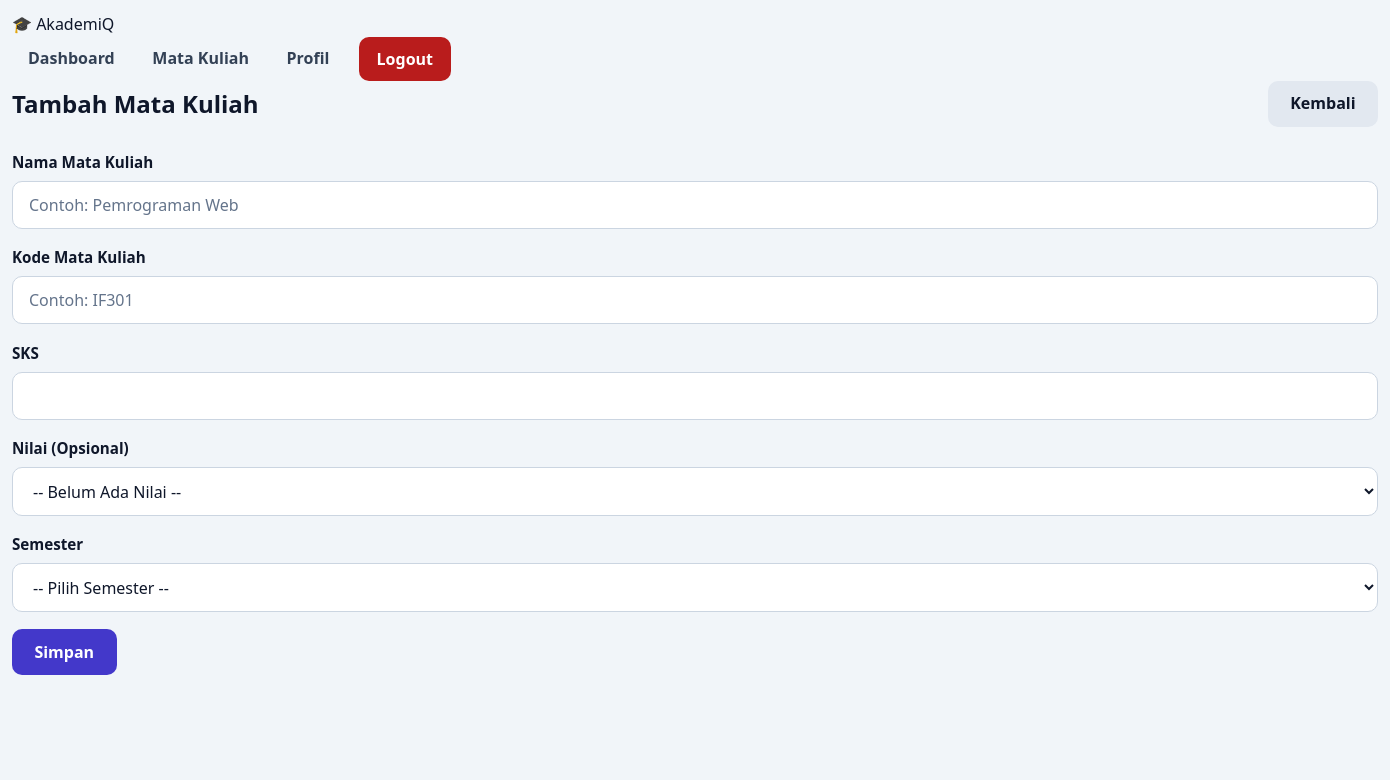
TambahMatakuliah › menampilkan pesan default jika server tidak merespons
The width and height of the screenshot is (1390, 780).
Step 1. Type "Pemrograman Web" into the field labelled "Nama Mata Kuliah" → (695, 205), box [12,181,1378,229]
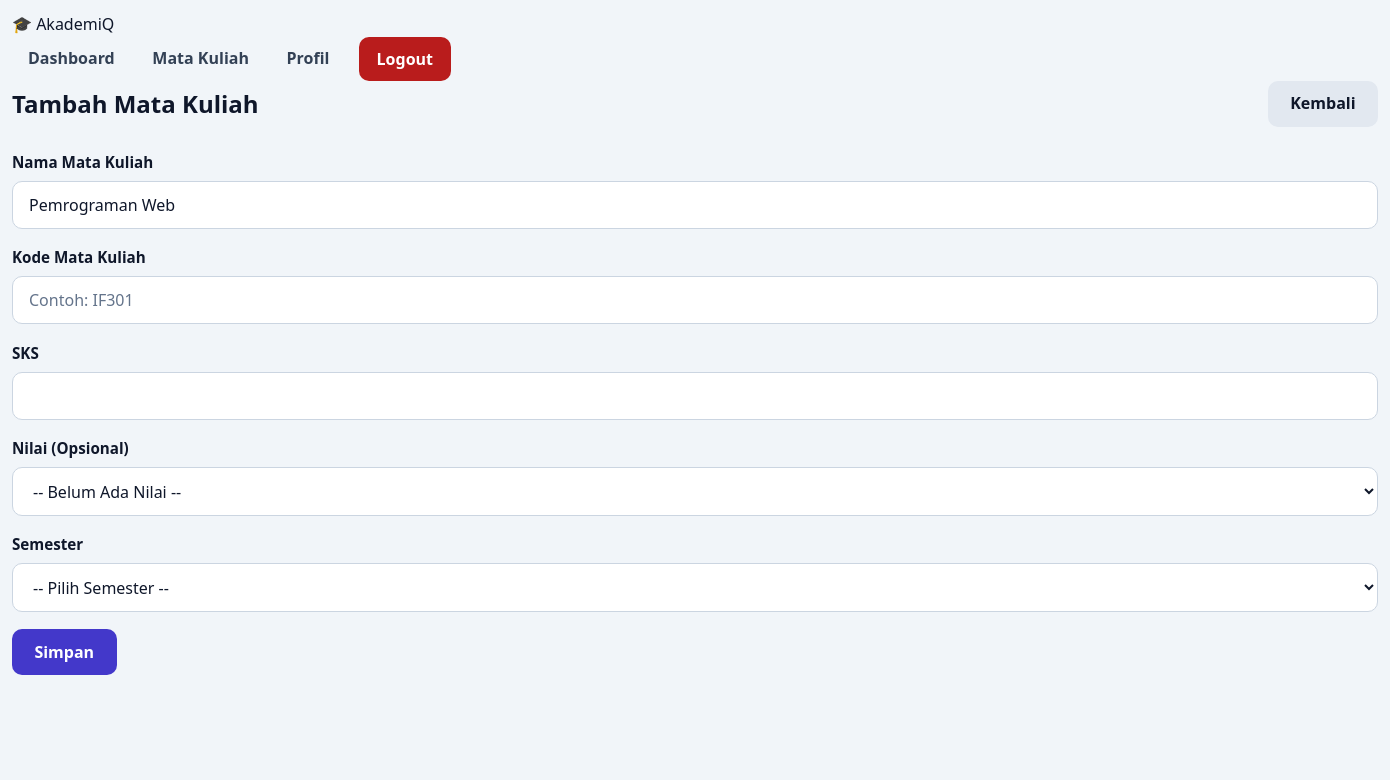
Step 2. Type "IF301" into the field labelled "Kode Mata Kuliah" → (695, 300), box [12,276,1378,324]
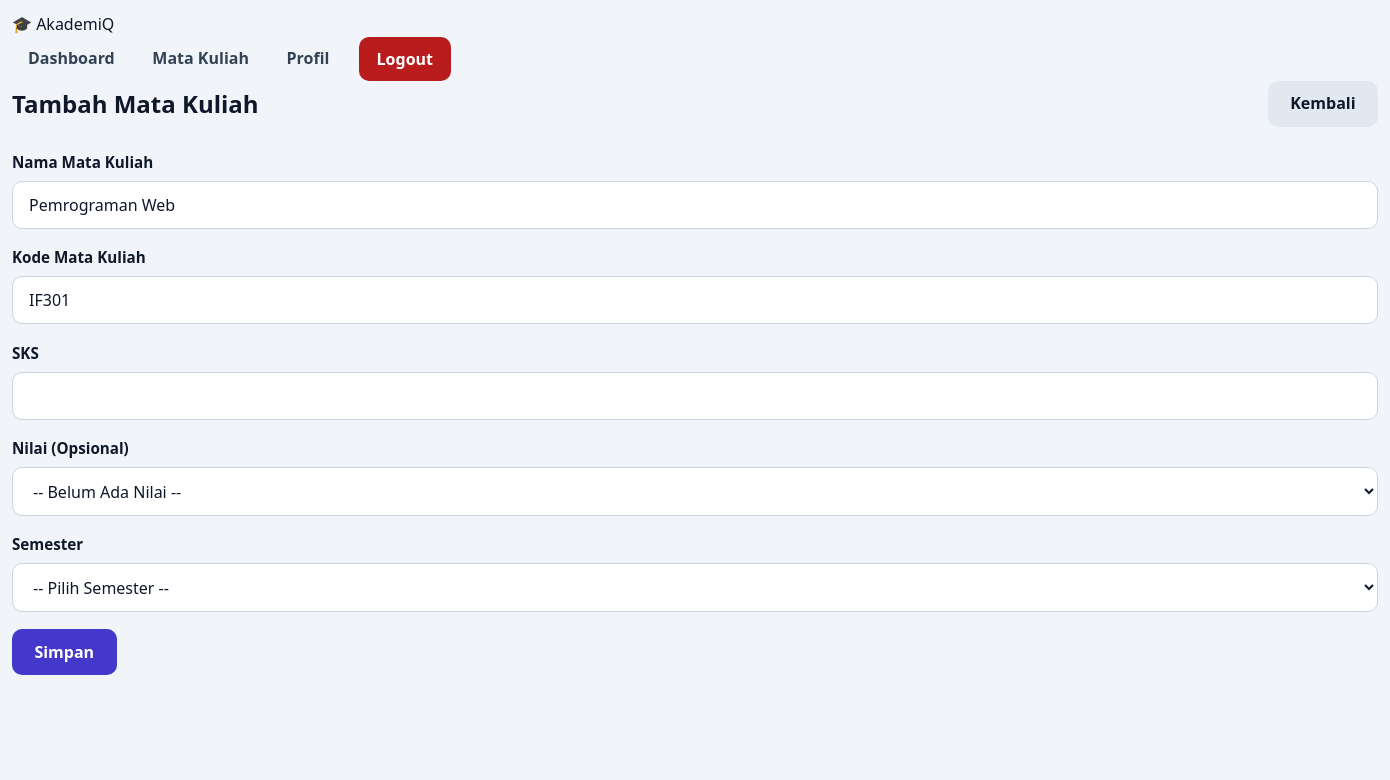
Step 3. Type "3" into the number field labelled "SKS" → (695, 396), box [12,372,1378,420]
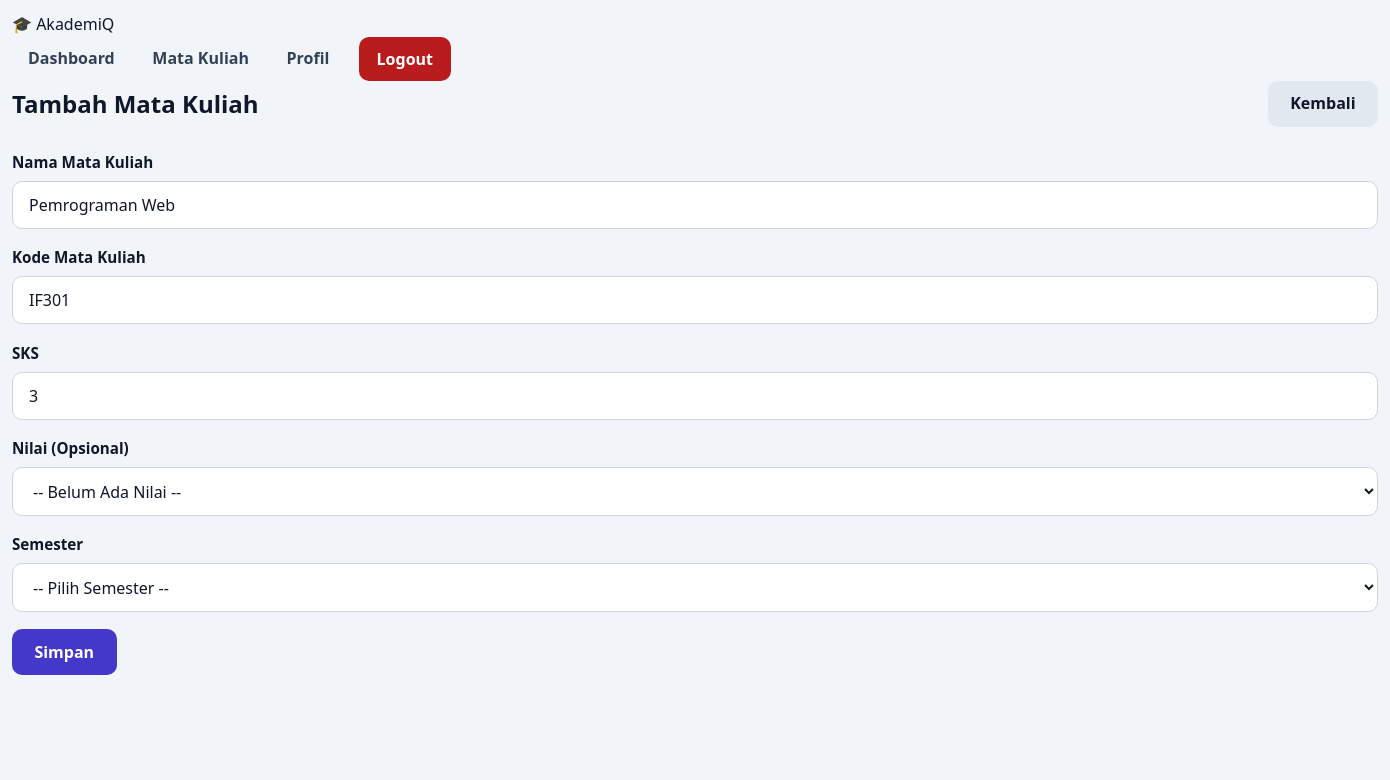
Step 4. Select "A" in the dropdown labelled "Nilai (Opsional)" → (695, 492), box [12,467,1378,516]
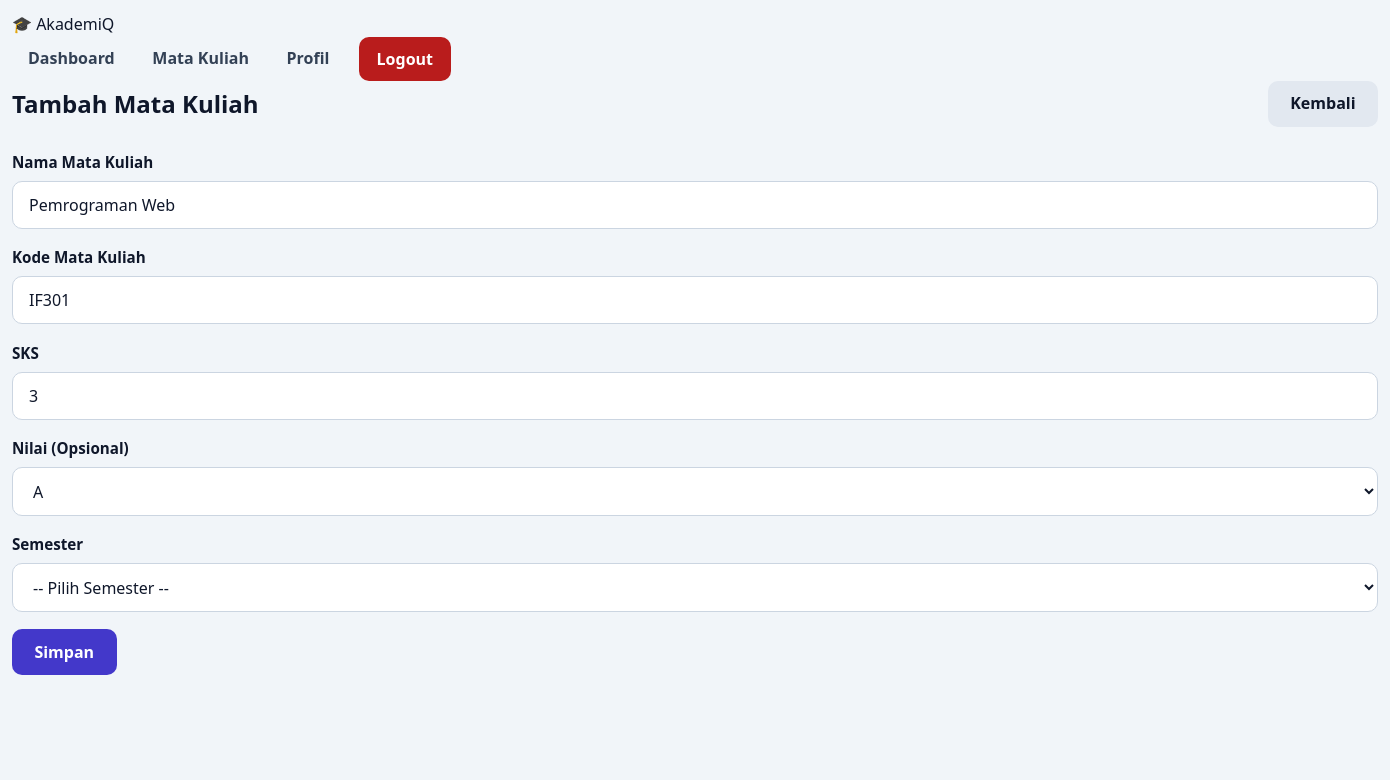
Step 5. Select "Semester 5" in the dropdown labelled "Semester" → (695, 588), box [12,563,1378,612]
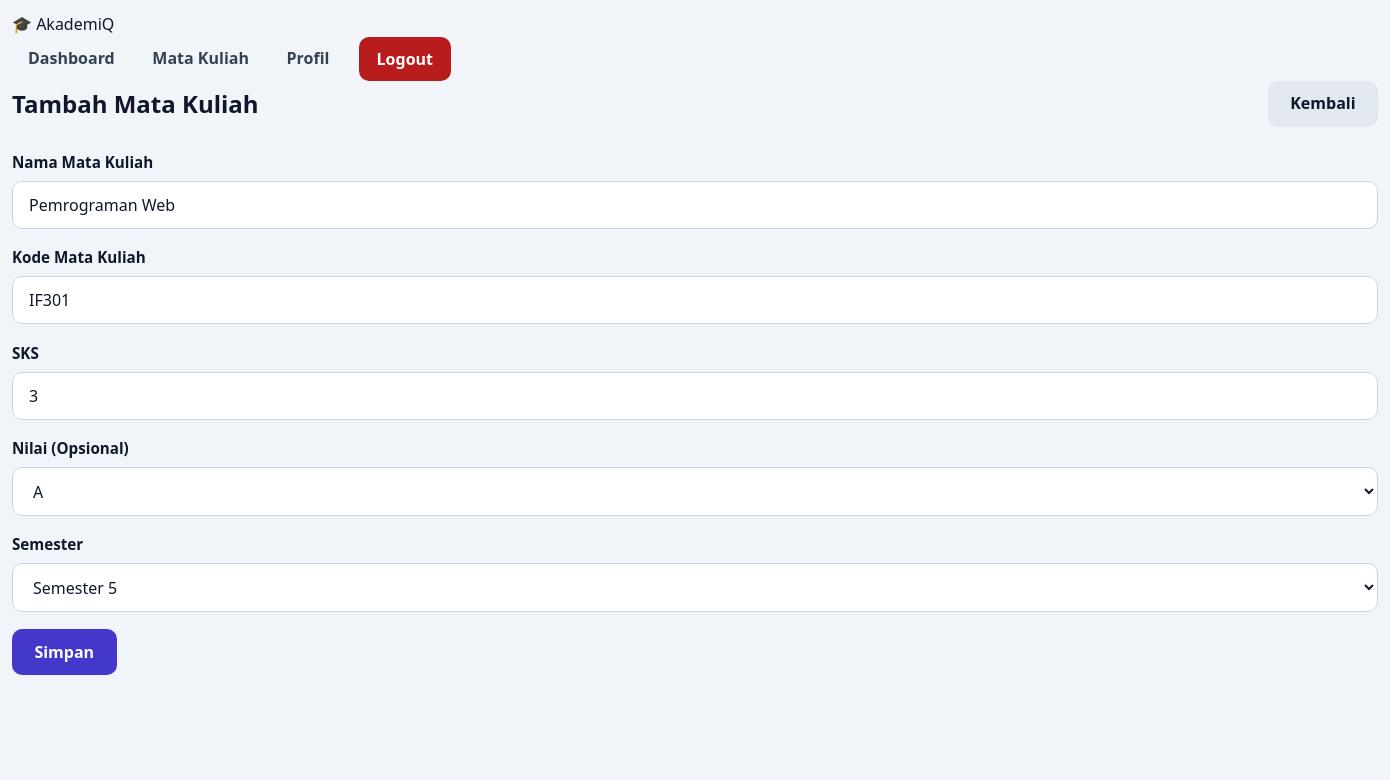
Step 6. Submit the form "Simpan"
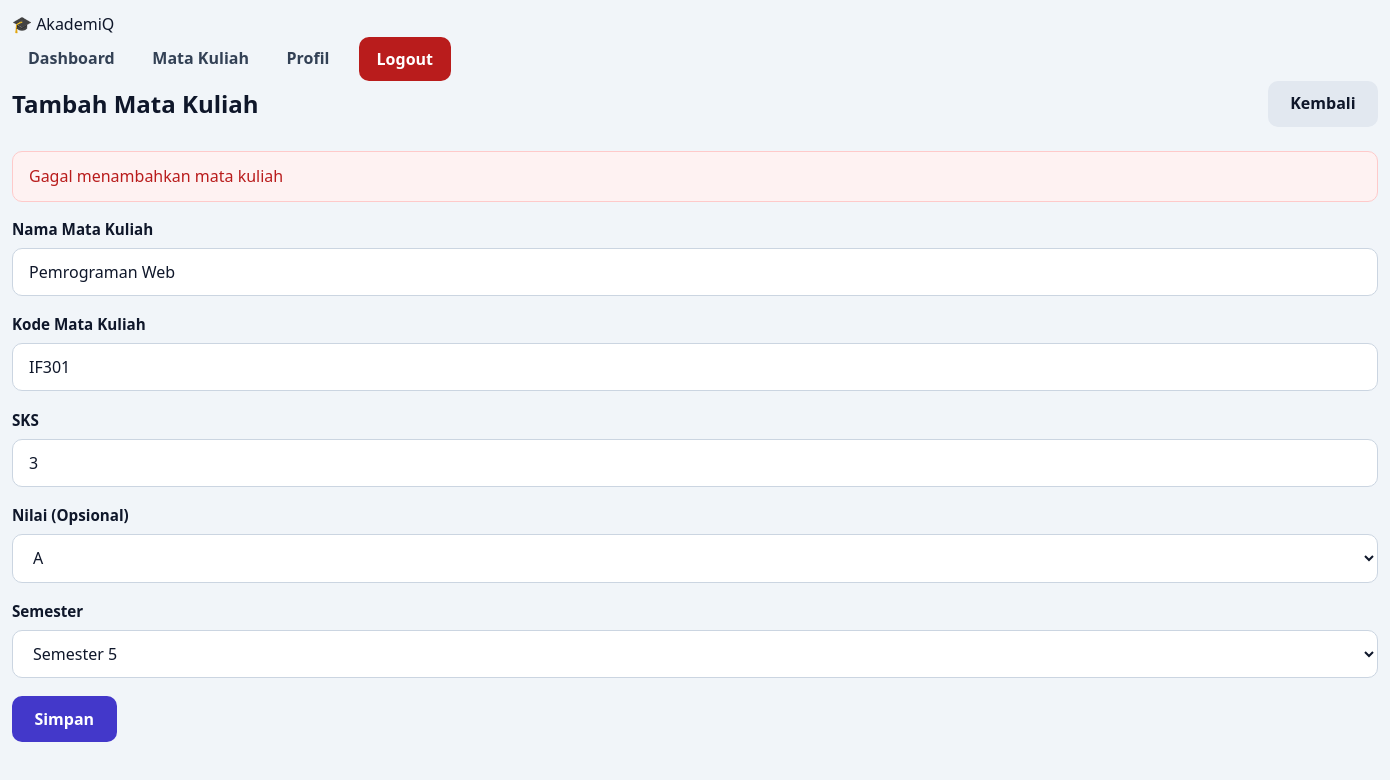
Expected: the text "Gagal menambahkan mata kuliah" is shown, [12,151,1378,202]
